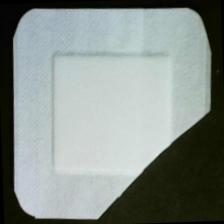Cut: (7, 1, 219, 223)
